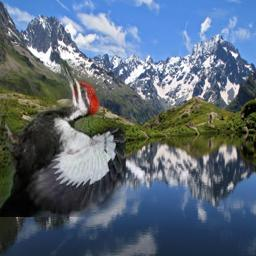Woodpecker: (0, 59, 126, 217)
